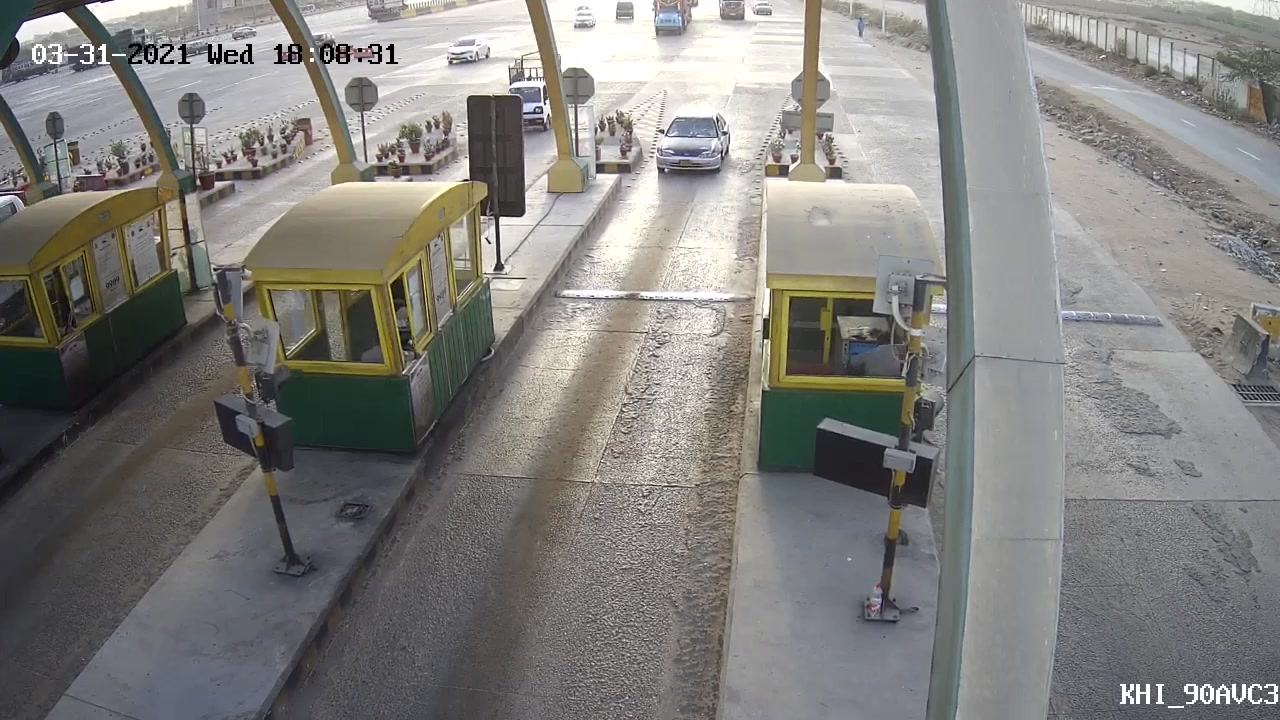F1: (639, 101, 742, 191)
